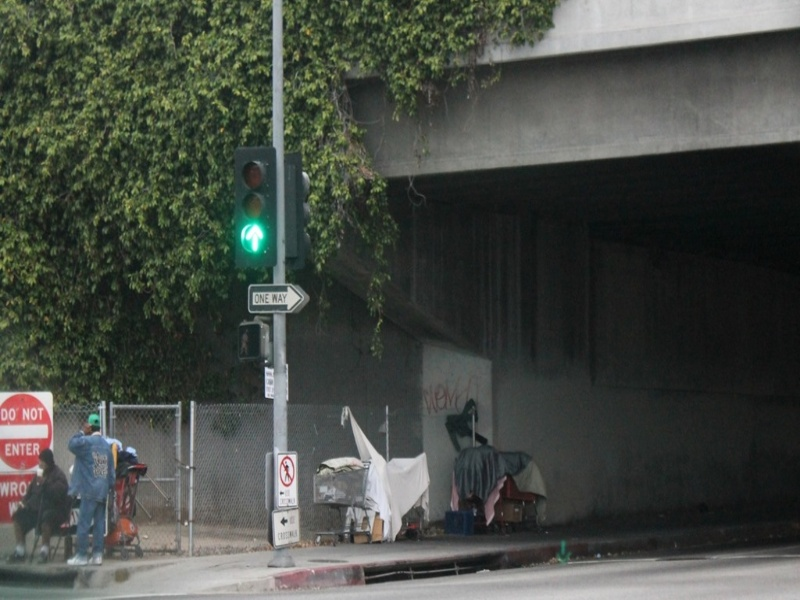green_light: (225, 214, 278, 266)
one_way: (246, 284, 313, 335)
